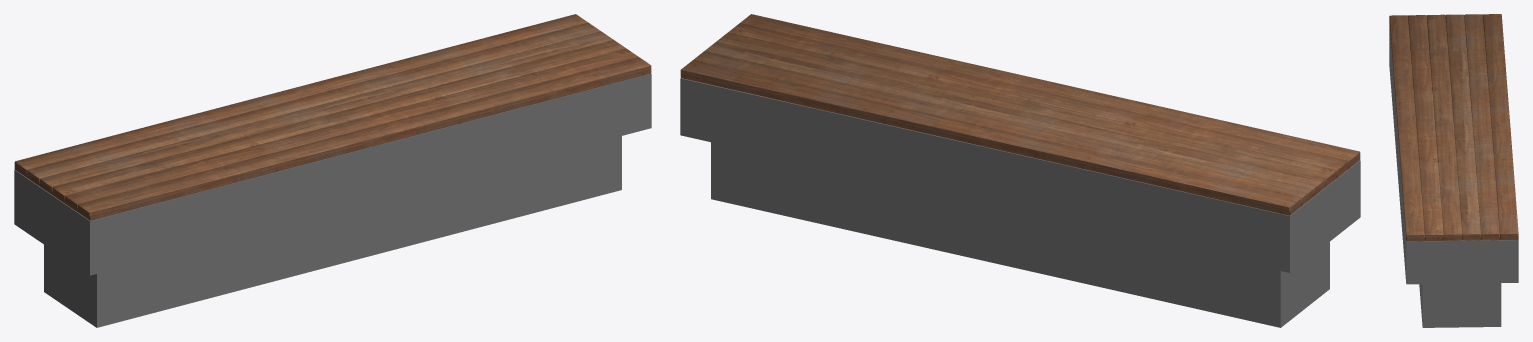
Rendered from panchina.glb.
3 views of the same model, side by side, from view 1: azimuth 30°, elevation 25°; view 2: azimuth 150°, elevation 25°; view 3: azimuth 270°, elevation 25° (orthographic). The views are drawn at different scales.
Parts seen in each view (by area): view 1: Panchina; view 2: Panchina; view 3: Panchina.
Boxes of the visible parts, x1,y1,x2,y2 form: Panchina: (14, 14, 651, 327); Panchina: (680, 14, 1360, 327); Panchina: (1389, 14, 1518, 327).
Bounding box in the file's own units: 2.07 × 0.4394 × 0.5121.
2 materials, 1 textured.
